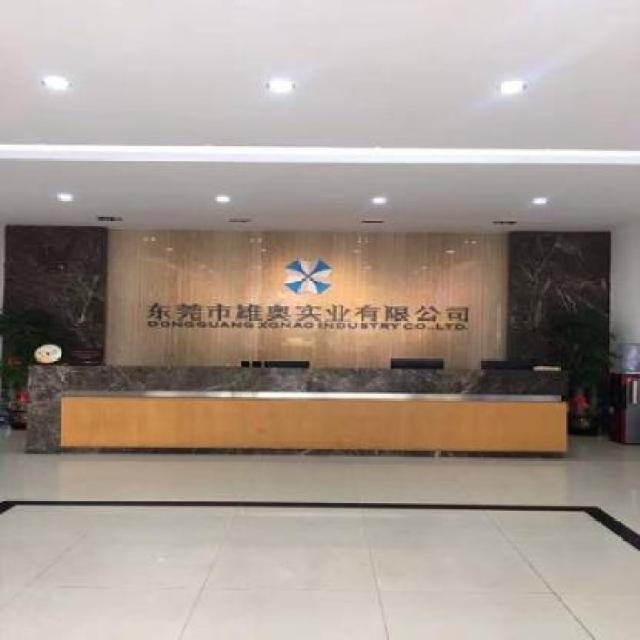frontdesk: (14, 352, 587, 468)
